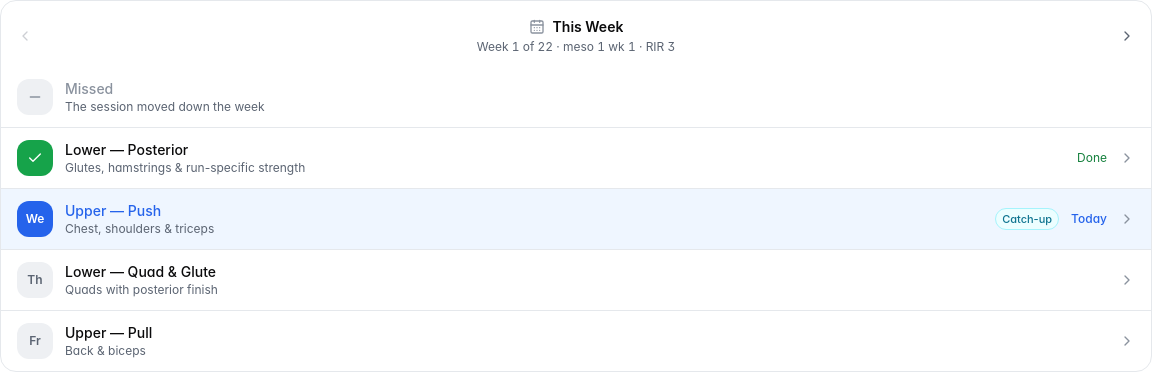
WeekSchedule › renders a future week as the plan, with no completion or catch-up on it
This screenshot has width=1152, height=389.
Click the button named "Next week": coordinates (1127, 36) [1113,22,1141,50]
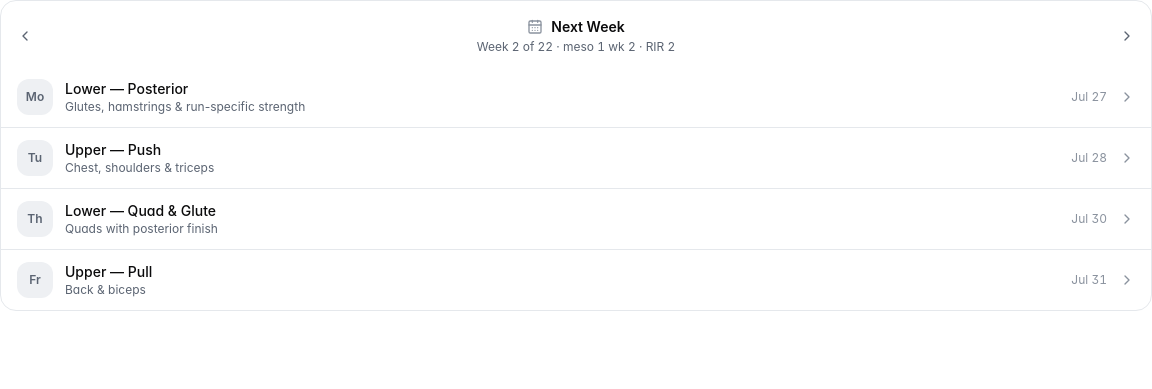
expect the number of links is 4: met, box [1,67,1151,128]; [1,128,1151,189]; [1,189,1151,250]; [1,250,1151,310]
expect the text "Next Week" is shown: met, box [551,17,625,37]
